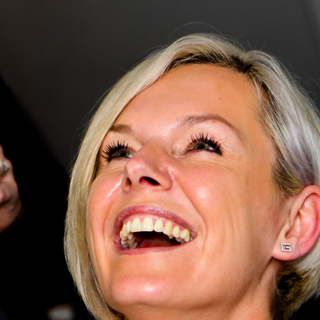eye: (181, 133, 225, 160), (95, 140, 139, 165)
